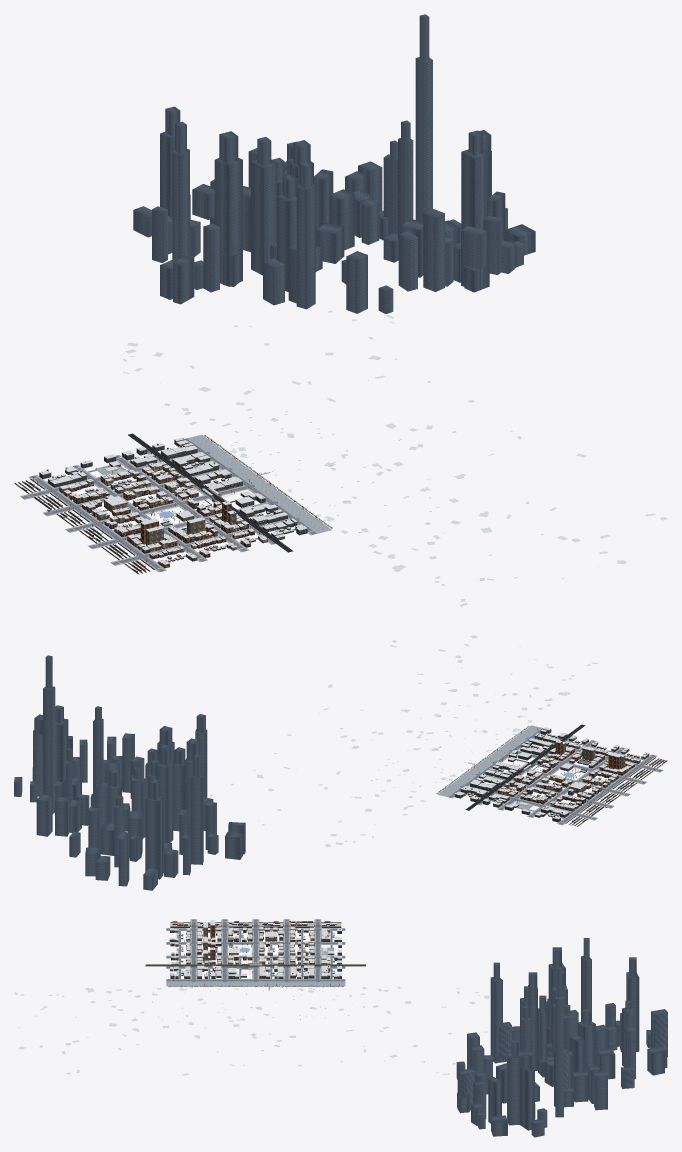
File: city.glb
3 renders of one model, top to bottom at view 1: azimuth 30°, elevation 25°; view 2: azimuth 150°, elevation 25°; view 3: azimuth 270°, elevation 25°, orthographic. The views are drawn at different scales.
Parts seen in each view (by area): view 1: mat_3@5_-7, mat_3@4_-7, mat_3@7_-7, mat_3@8_-6, mat_3@5_-6, mat_3@8_-7, mat_3@4_-8, mat_3@7_-6, mat_3@7_-5, mat_3@4_-9, mat_3@7_-8, mat_3@6_-7 (+7 smaller); view 2: mat_3@8_-7, mat_3@4_-9, mat_3@5_-7, mat_3@4_-8, mat_3@7_-8, mat_3@6_-8, mat_3@5_-10, mat_3@5_-8, mat_3@7_-6, mat_3@6_-9, mat_3@8_-6, mat_3@7_-7 (+11 smaller); view 3: mat_3@8_-6, mat_3@6_-8, mat_3@5_-7, mat_3@5_-6, mat_3@8_-7, mat_3@4_-9, mat_3@7_-8, mat_3@9_-7, mat_3@6_-9, mat_3@6_-7, mat_3@4_-8, mat_3@7_-6 (+22 smaller).
Boxes of the visible parts, box(x1,y1,x2,y2) form: mat_3@5_-7: box(251, 137, 316, 291); mat_3@4_-7: box(194, 131, 242, 292); mat_3@7_-7: box(344, 120, 413, 262); mat_3@8_-6: box(445, 130, 523, 282); mat_3@5_-6: box(263, 162, 315, 309); mat_3@8_-7: box(415, 14, 491, 242); mat_3@4_-8: box(152, 121, 214, 262); mat_3@7_-6: box(398, 209, 460, 291); mat_3@7_-5: box(423, 213, 479, 292); mat_3@4_-9: box(134, 106, 200, 258); mat_3@7_-8: box(340, 161, 387, 240); mat_3@6_-7: box(314, 181, 354, 271); mat_3@8_-7: box(30, 655, 81, 813); mat_3@4_-9: box(143, 779, 190, 890); mat_3@5_-7: box(141, 726, 205, 842); mat_3@4_-8: box(179, 754, 203, 873); mat_3@7_-8: box(36, 763, 95, 836); mat_3@6_-8: box(93, 766, 146, 830); mat_3@5_-10: box(85, 831, 129, 886); mat_3@5_-8: box(128, 765, 167, 861); mat_3@7_-6: box(103, 733, 144, 798); mat_3@6_-9: box(69, 807, 114, 857); mat_3@8_-6: box(55, 705, 111, 794); mat_3@7_-7: box(66, 706, 103, 825); mat_3@8_-6: box(471, 1040, 522, 1125); mat_3@6_-8: box(564, 1005, 614, 1074); mat_3@5_-7: box(520, 970, 567, 1070); mat_3@5_-6: box(490, 962, 519, 1063); mat_3@8_-7: box(520, 966, 563, 1123); mat_3@4_-9: box(605, 957, 650, 1052); mat_3@7_-8: box(564, 1052, 607, 1109); mat_3@9_-7: box(520, 1051, 547, 1137); mat_3@6_-9: box(606, 1026, 653, 1088); mat_3@6_-7: box(538, 996, 564, 1086); mat_3@4_-8: box(570, 938, 607, 1034); mat_3@7_-6: box(471, 1045, 506, 1103).
Bounding box in the file's own units: 1482 × 474 × 1899.
53 materials, 46 textured.
